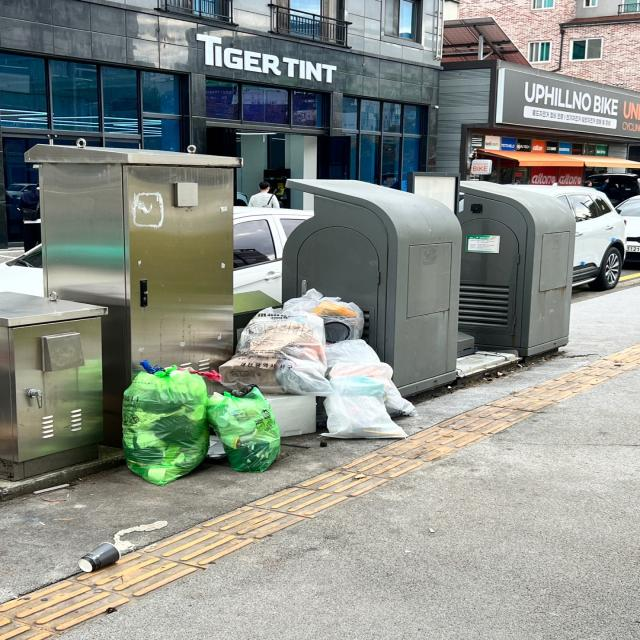CleanNet: (282, 171, 474, 389), (454, 177, 584, 366)
General Waste: (114, 358, 209, 488), (316, 332, 402, 452), (230, 295, 334, 393), (213, 382, 282, 479)
